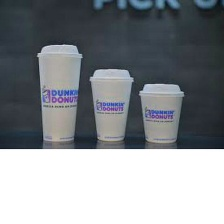paper_cup: (32, 38, 86, 144), (84, 64, 136, 144), (134, 79, 189, 146)
